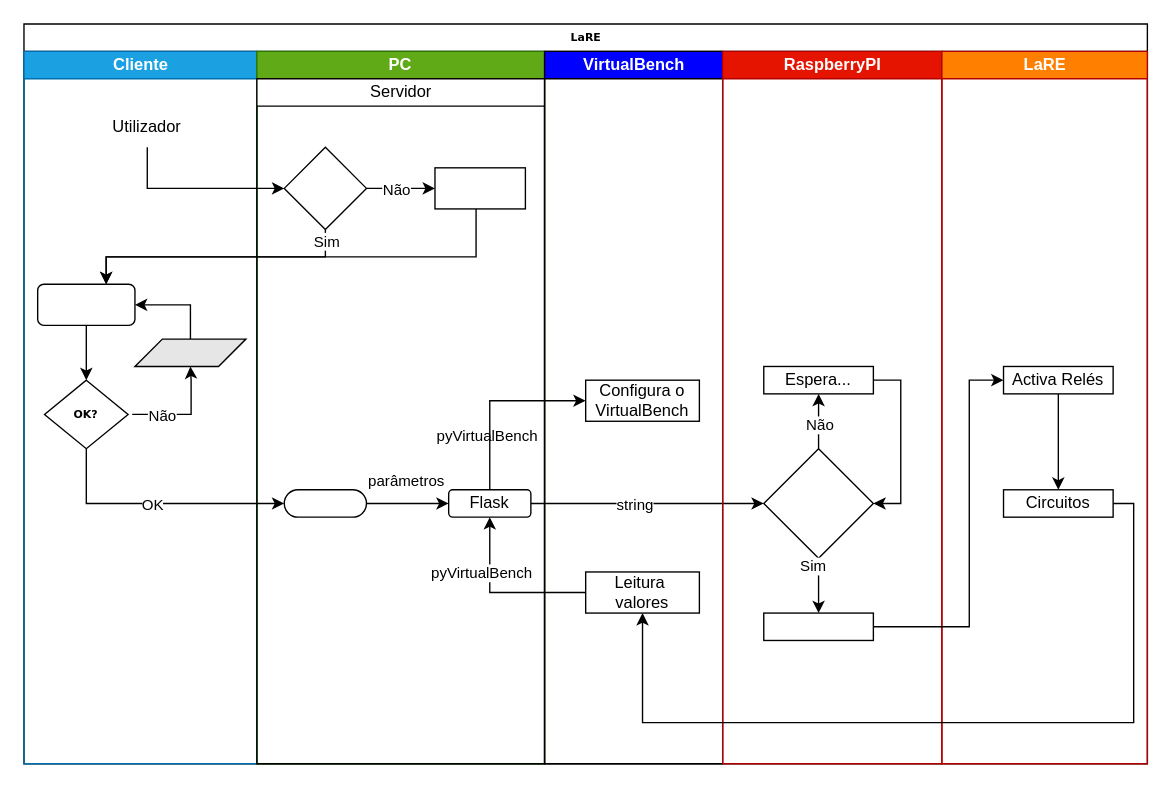
Some shapes in this 1171 by 799 pixel diagram are drawn without their labels. The shapes that lost their labels are listed below. From the top down, each one's centre as x and y in pixels, then its label:
At pixel 324 187: "login?".
At pixel 479 187: "Registo".
At pixel 85 304: "Escolha circuito".
At pixel 190 352: "ERRO!".
At pixel 324 502: "HTML".
At pixel 817 502: "String OK?".
At pixel 817 626: "Envia string".
